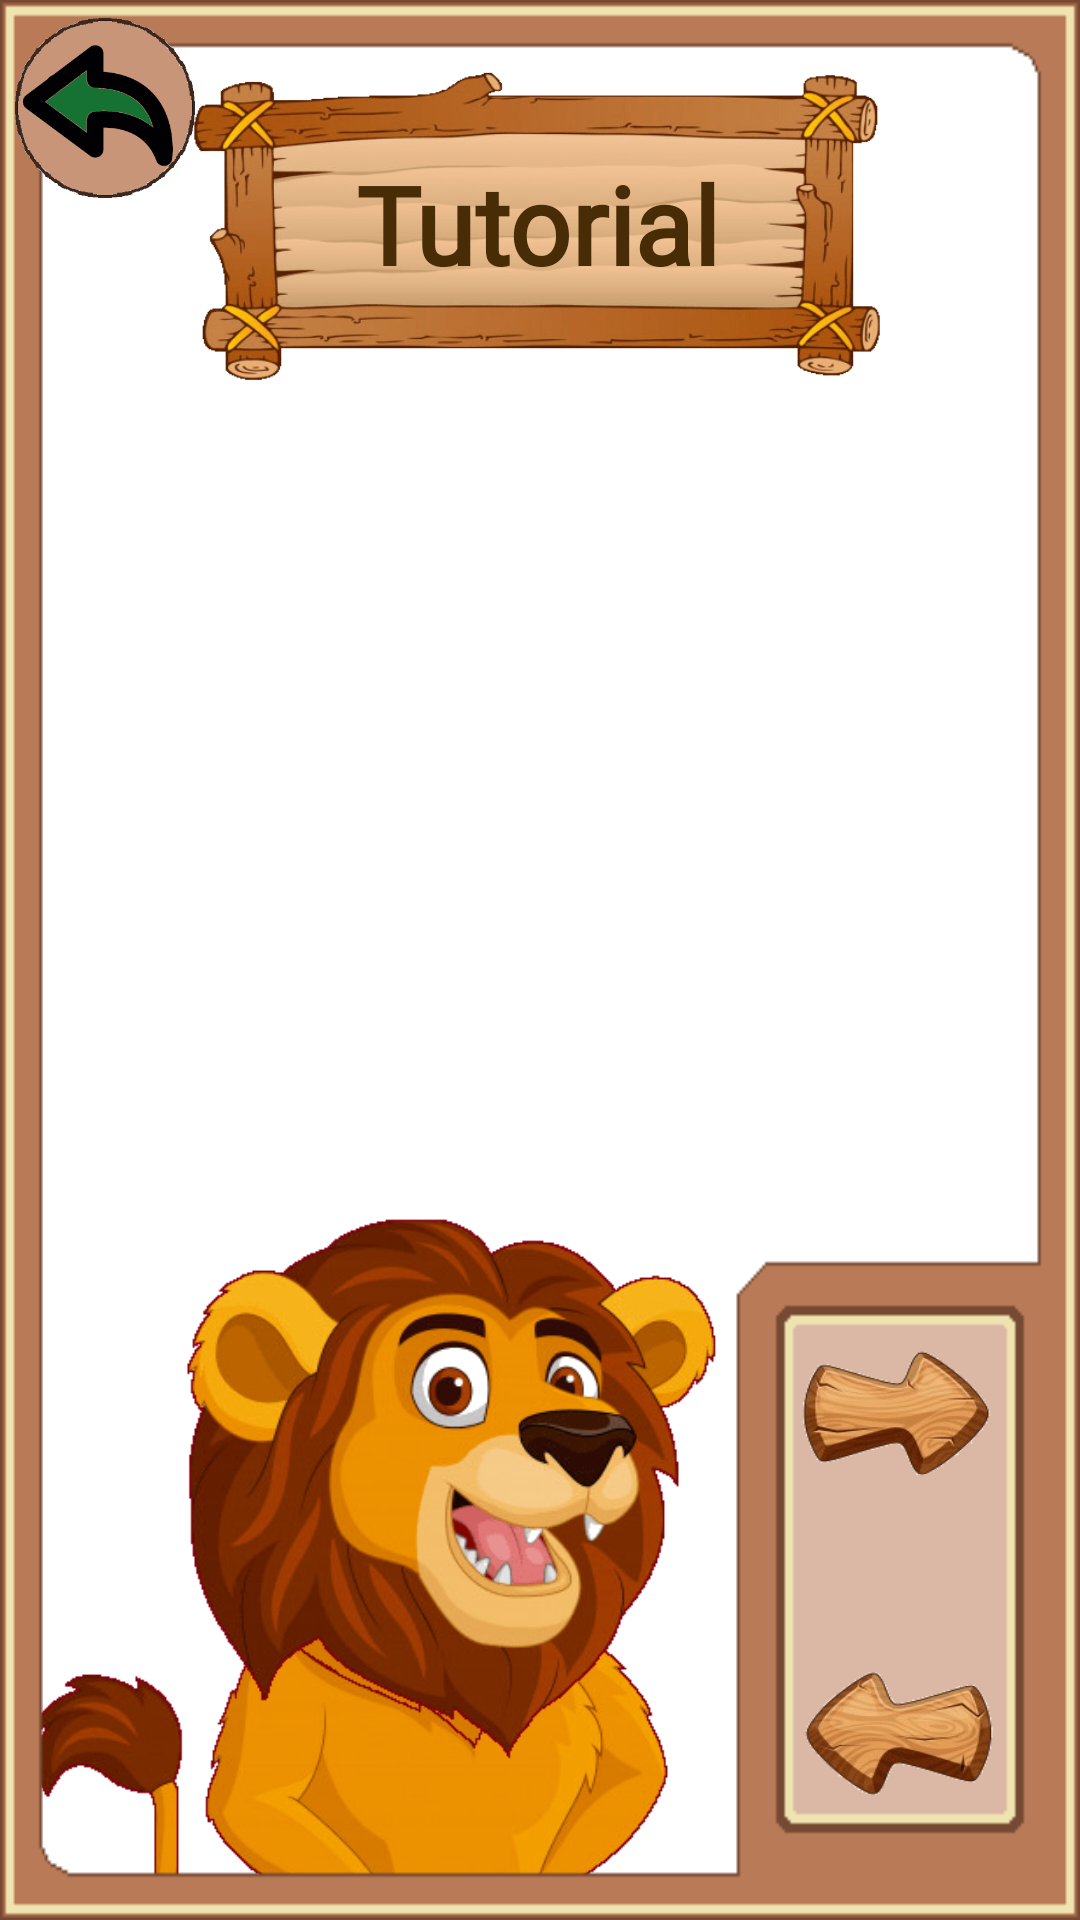

Icons on this 1080*1920 Android screen, each with the point to tap as [x,y]:
back: [105,108]
next: [896,1413]
previous: [899,1733]
